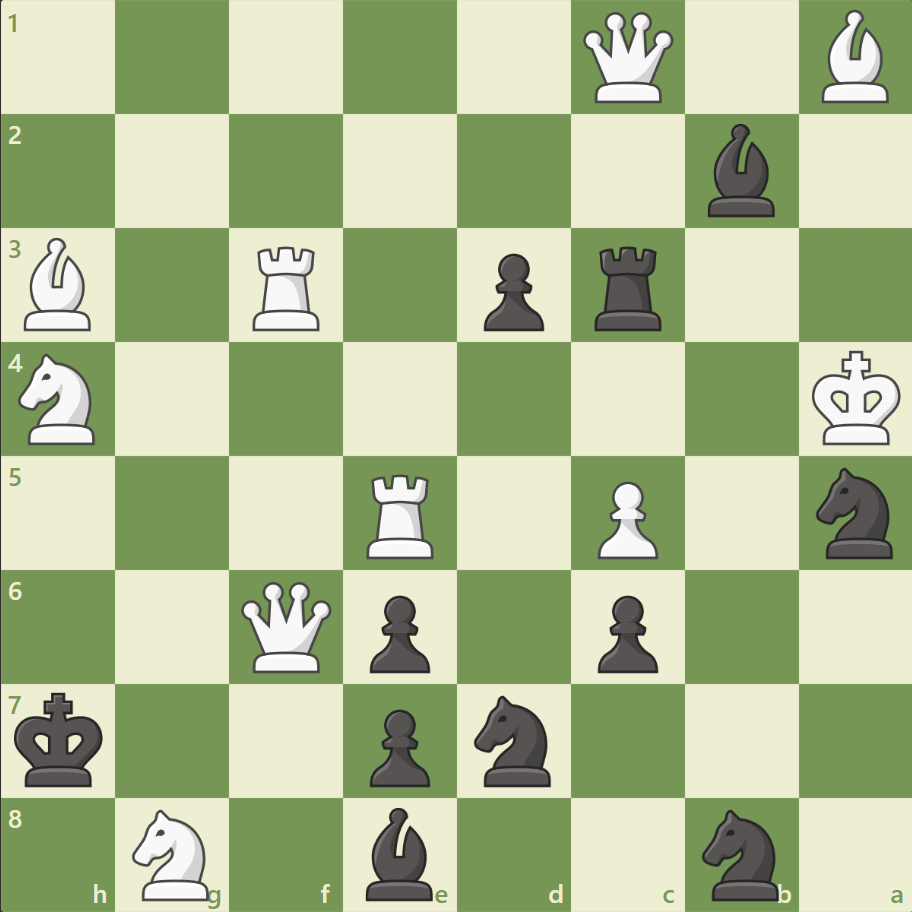B: (17, 233, 101, 336), (812, 6, 896, 109)
K: (806, 344, 906, 452)
N: (124, 802, 222, 904), (11, 348, 108, 450)
P: (588, 473, 662, 564)
Q: (237, 576, 336, 676), (578, 9, 677, 108)
R: (246, 239, 329, 336), (360, 466, 442, 563)
b: (358, 801, 442, 904), (698, 120, 782, 222)
k: (11, 685, 111, 793)
n: (465, 688, 562, 791), (806, 461, 903, 564), (692, 802, 789, 904)
p: (474, 246, 549, 337), (361, 700, 435, 791), (588, 586, 662, 677), (361, 586, 435, 677)
r: (587, 239, 670, 336)
